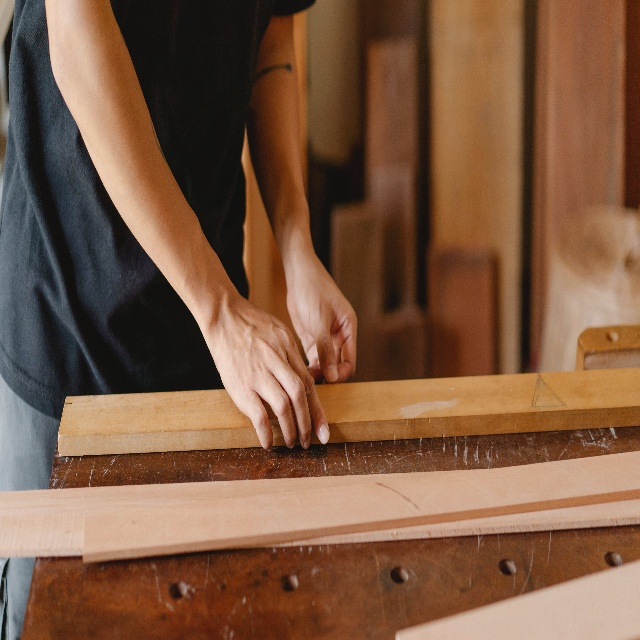Sin_guantes: (203, 294, 330, 451), (286, 254, 358, 384)
